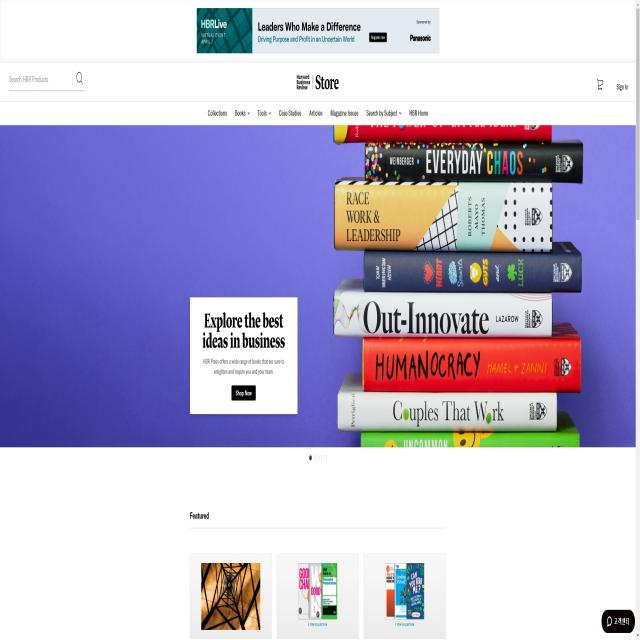menu-bar: (590, 66, 636, 100)
search: (8, 68, 86, 90)
tab-bar: (196, 102, 432, 125)
